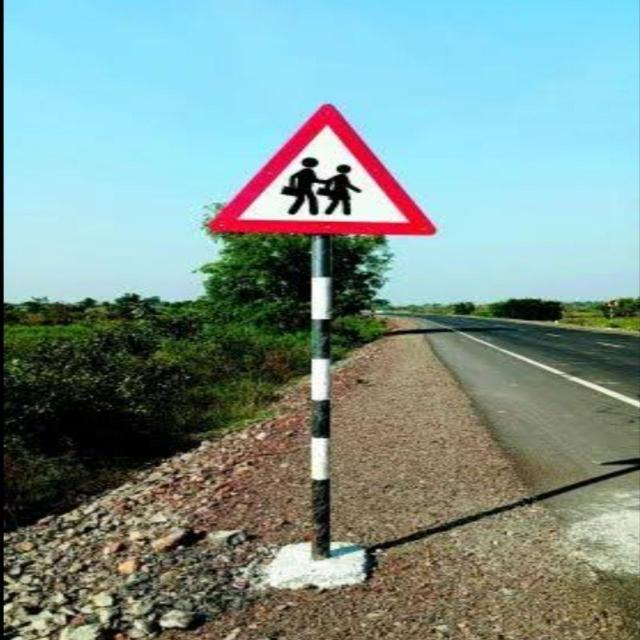school ahead: (201, 100, 451, 241)
